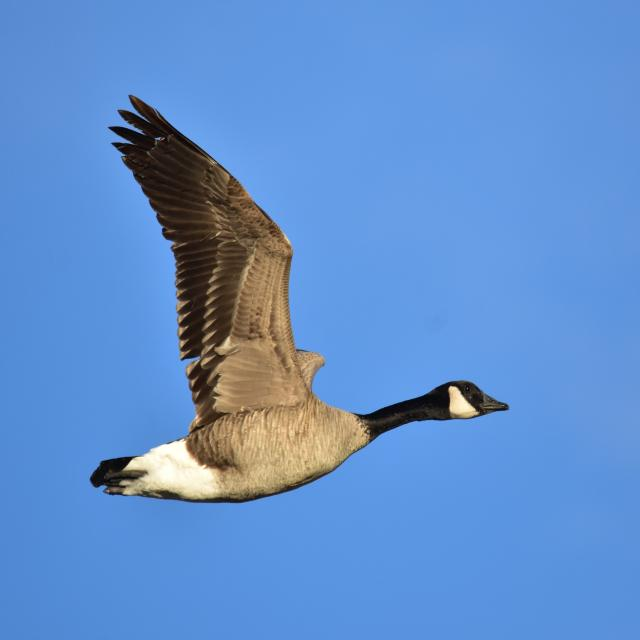Goose: (89, 95, 515, 508)
